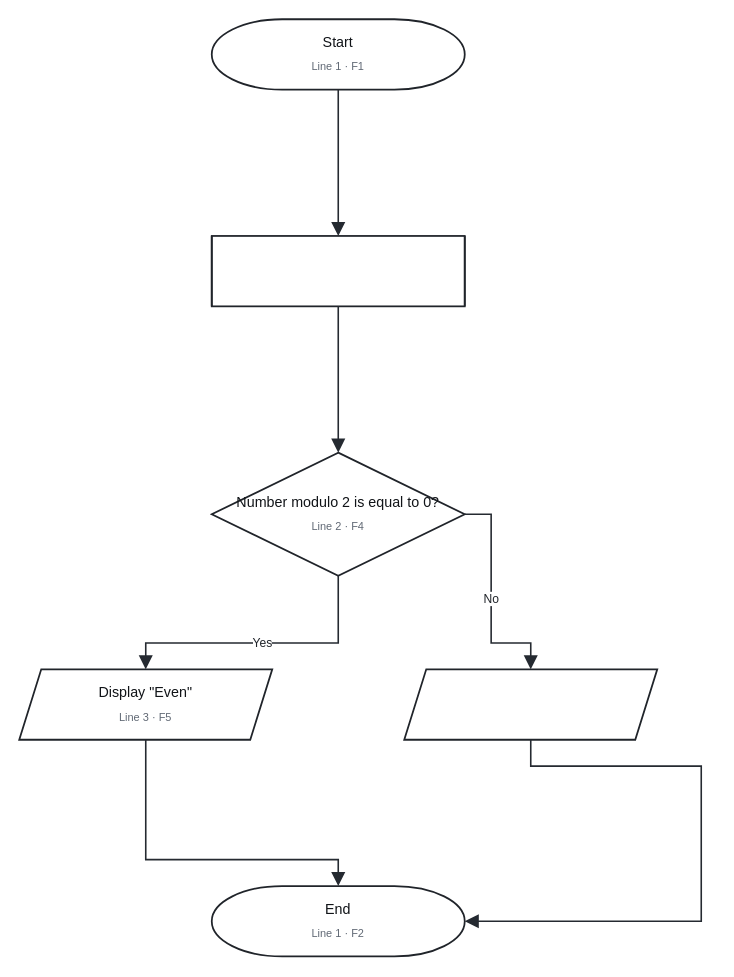
This 734x977 diagram has some shape labels left out. Each missing label, with the box of its shape:
Display "Odd" Line 5 · F6: (403, 668, 658, 740)
Run function unnamed_function with Number Line 1 · F3: (210, 235, 465, 307)
